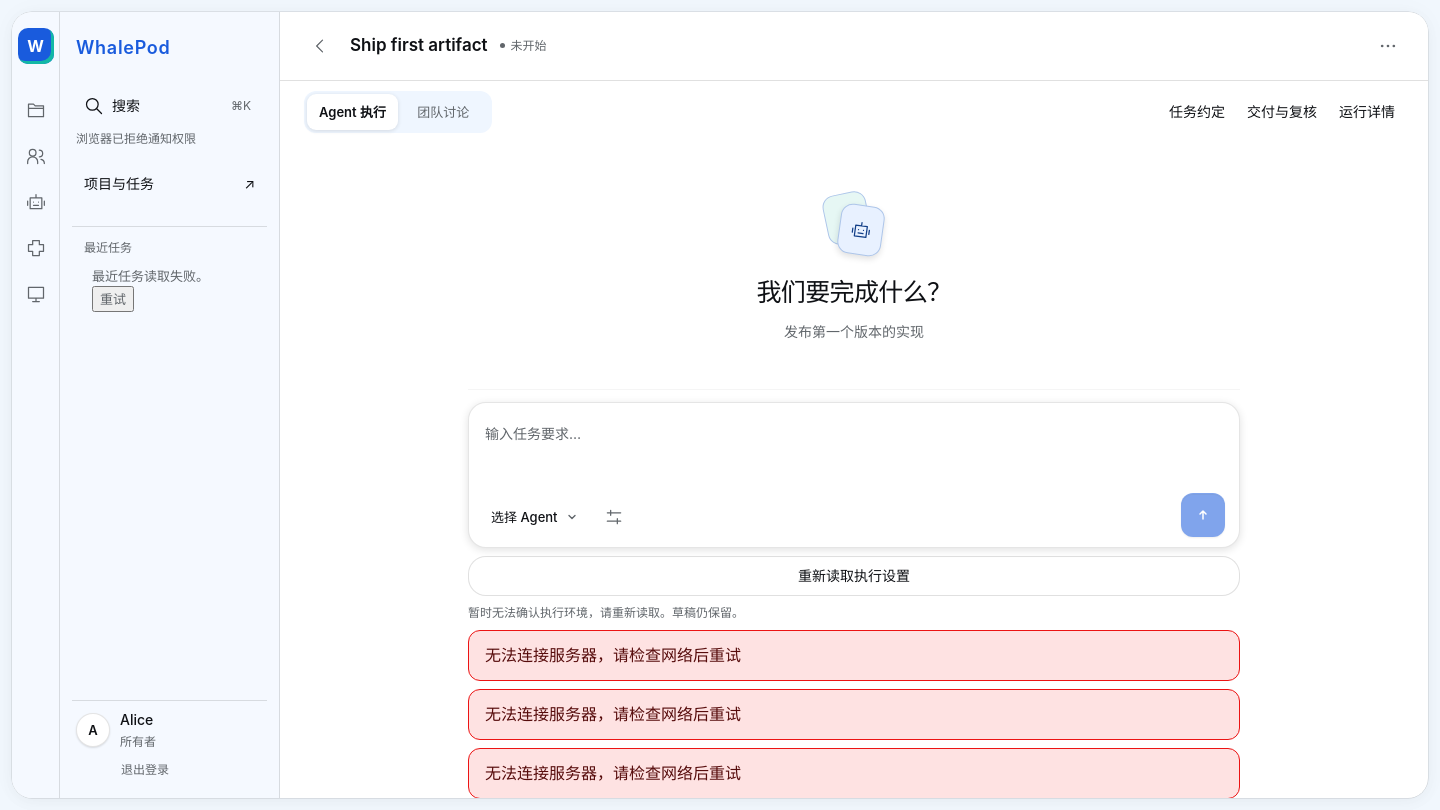
Test: 抽屉与二级页面的统一层级 › 约定抽屉只显示一个同名标题，阻断状态仍默认可见
Click the button "任务约定" at (1197, 112), box [1160,92,1234,132]
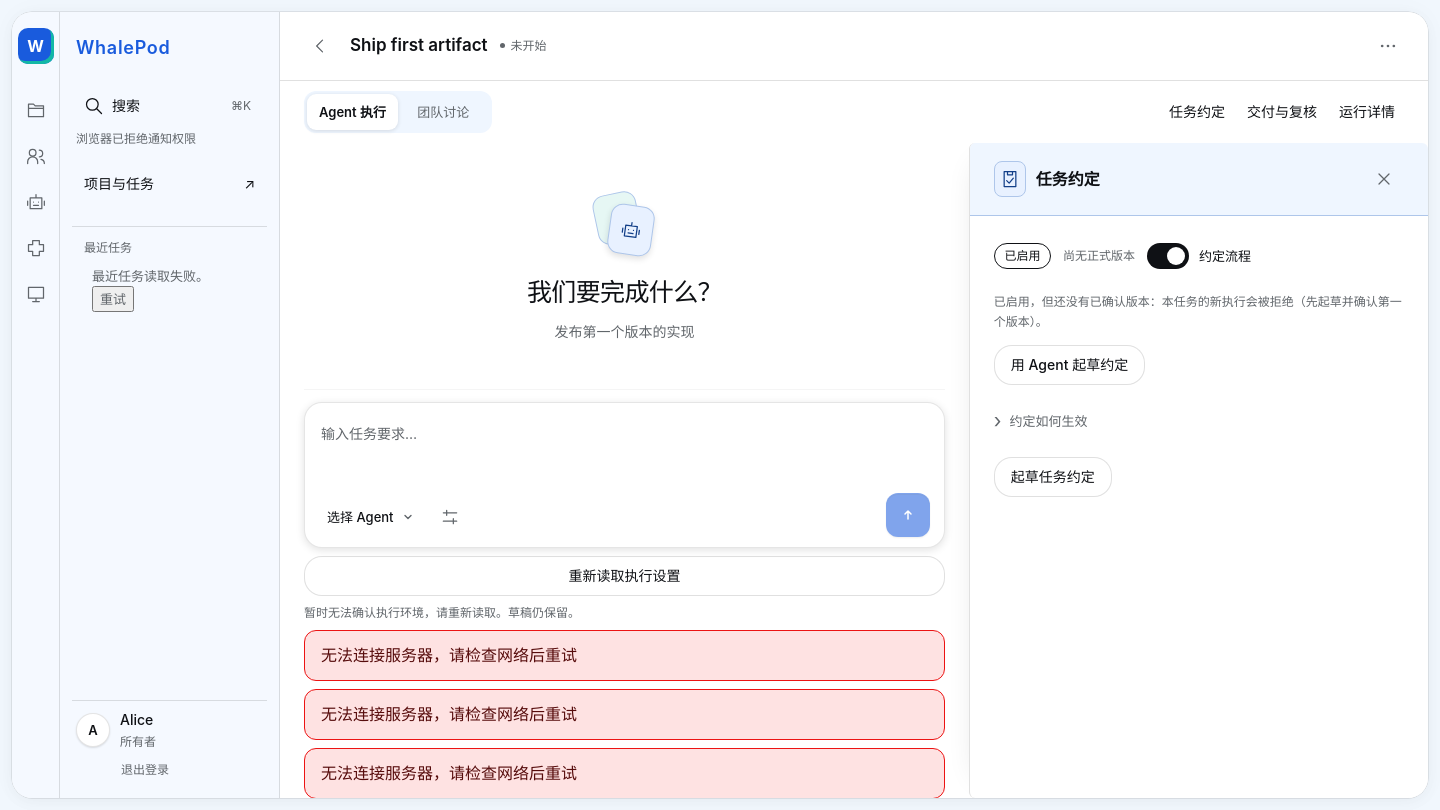
Result: the number of headings "任务约定" is 1 at [1036,169,1100,189]
Result: the text "已启用，但还没有已确认版本：本任务的新执行会被拒绝（先起草并确认第一个版本）。" is shown at [994,292,1404,333]
